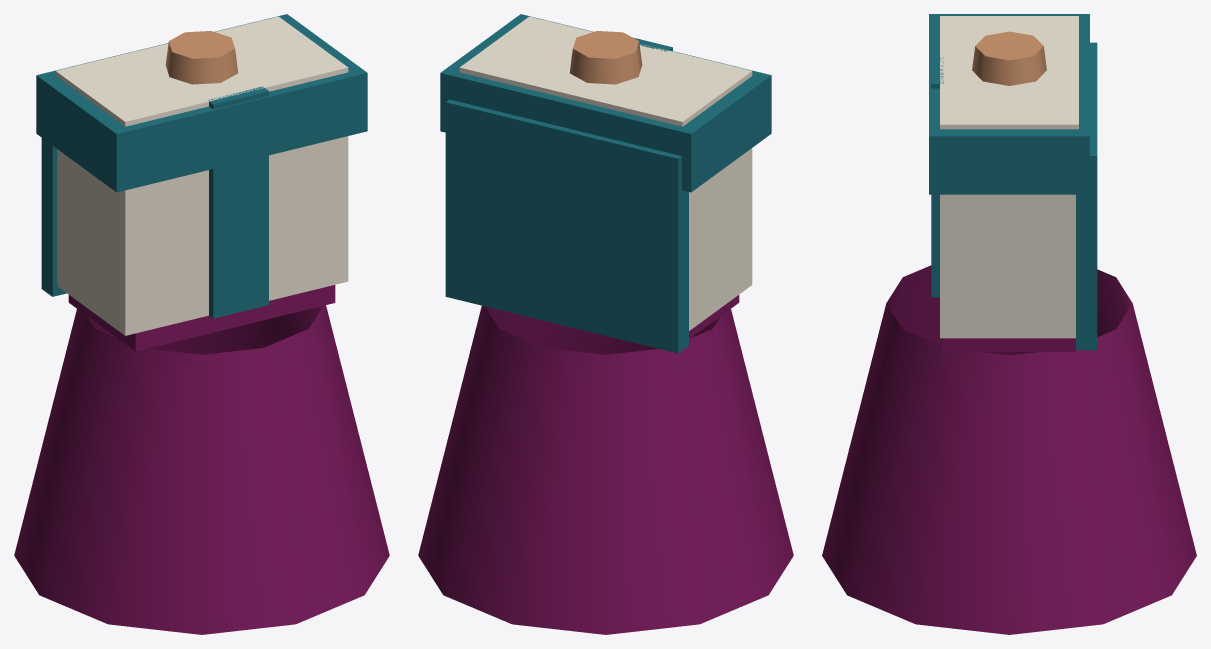
Rendered from PFlor_Torso.obj.
3 renders of one model, left to right at view 1: azimuth 30°, elevation 25°; view 2: azimuth 150°, elevation 25°; view 3: azimuth 270°, elevation 25°, orthographic.
Visible parts, largest first — view 1: Torso; view 2: Torso; view 3: Torso.
Boxes of the visible parts, x1,y1,x2,y2 form: Torso: (14,14,389,634); Torso: (418,14,793,634); Torso: (822,14,1196,634).
Size of the model in its own units: 0.35 by 0.525 by 0.35.
Materials: 1 (1 with a texture image).
